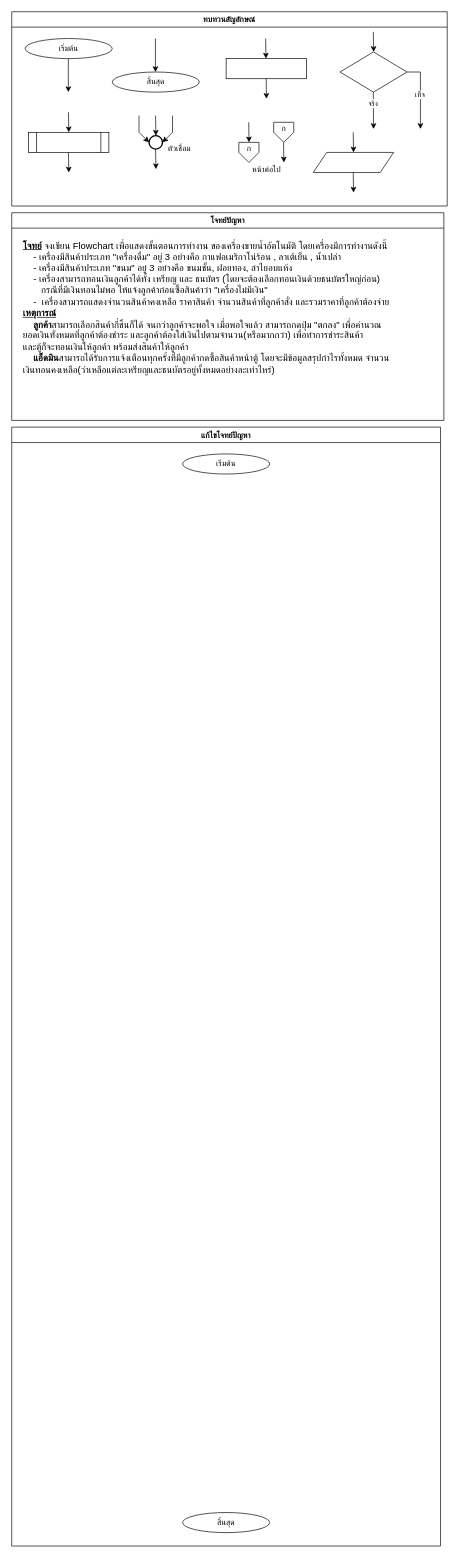
Image size: 459x1558. Some labels were removed from this diagram. Each missing label, with the centre of its shape:
กระบวนการ: (266,68)
ประโยคเงื่อนไข: (373,71)
ฟังก์ชัน/โมดูล: (68,142)
แสดงผล/รับค่า: (353,162)
